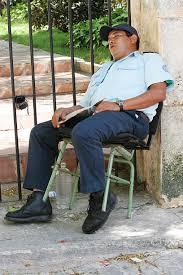sleep: (78, 21, 164, 146)
